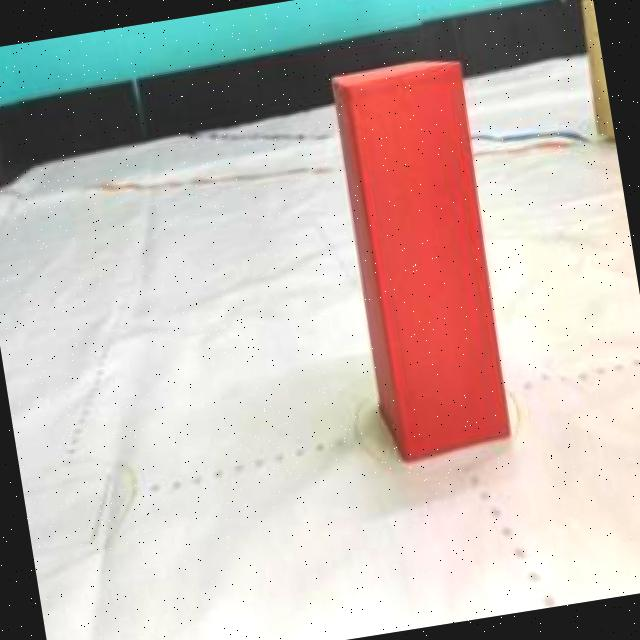redbox: (325, 51, 524, 468)
